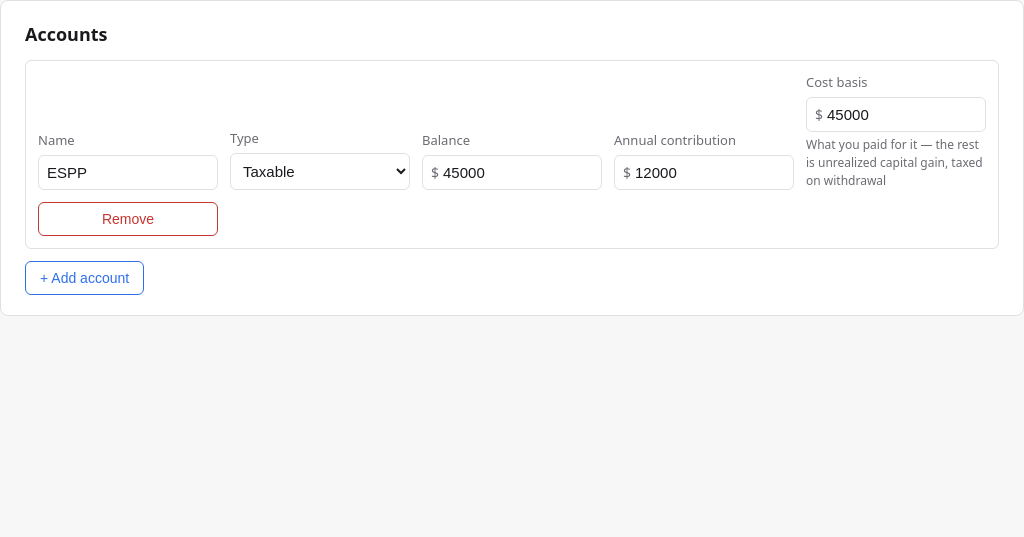
it: AccountsSection › adds a new blank account row when "Add account" is clicked
Expected: the number of fields is 1, [38,154,218,190]
Click the button "+ Add account": (85, 278) [25,260,144,294]
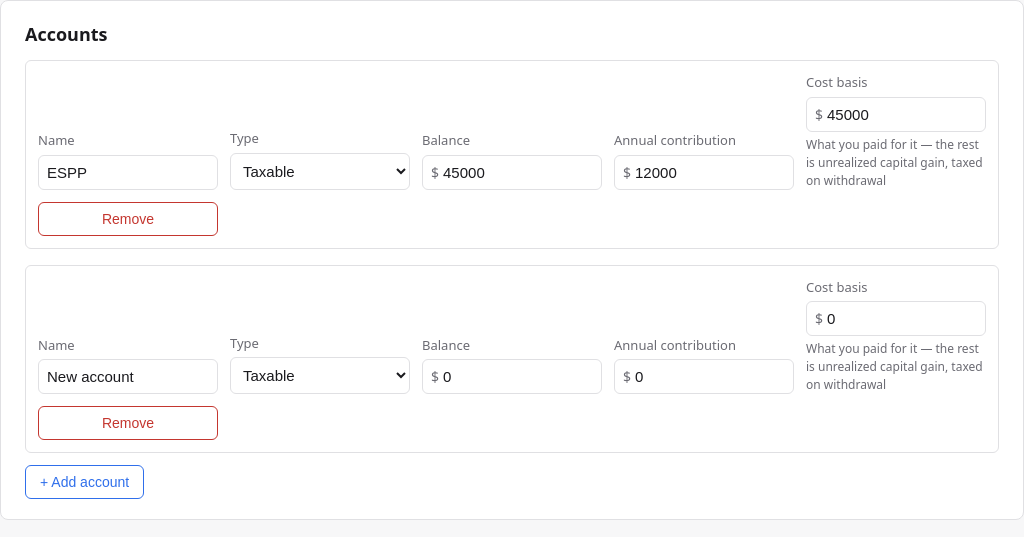
Expected: the number of fields is 2, [38,154,218,190]; [38,359,218,394]
Expected: the 2nd field showing "New account" is shown, [38,359,218,394]
